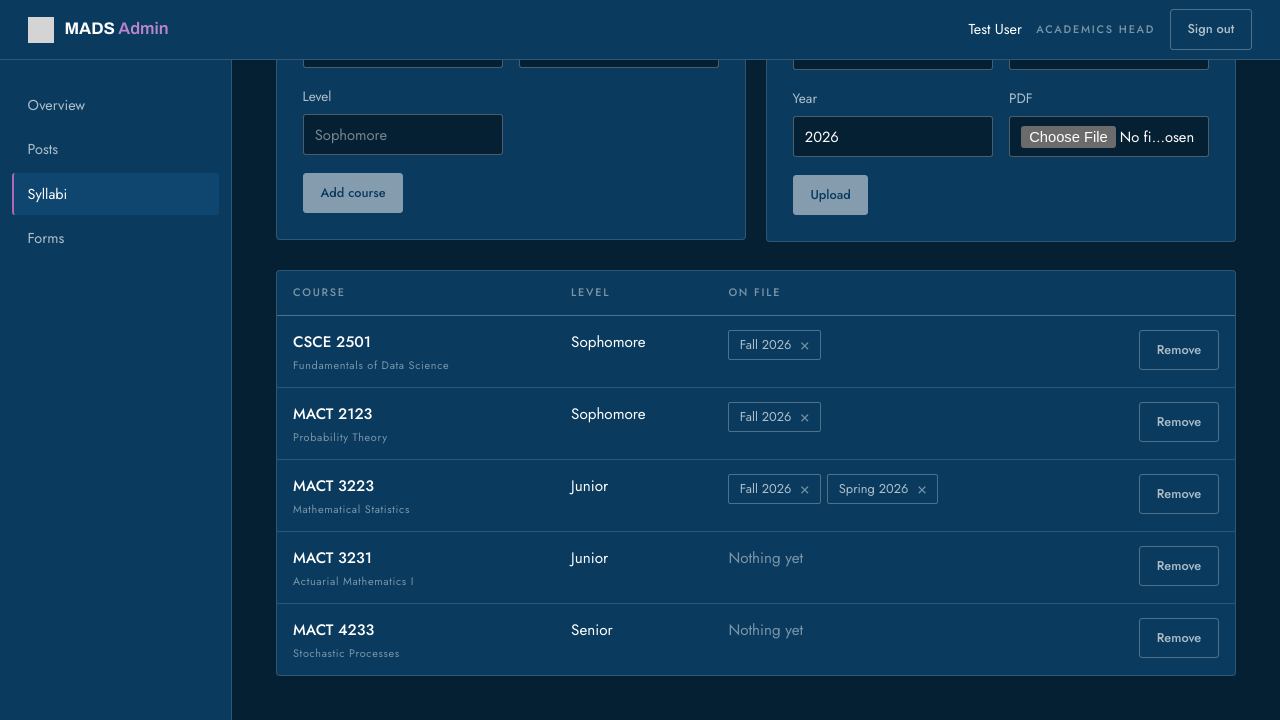
Scenario: Syllabi › keeps the course when the confirmation is declined
(page scrolled)
Click the button with aria-label "remove MACT 3231 from the catalogue".
click(1179, 566)  # box [1139,546,1219,586]
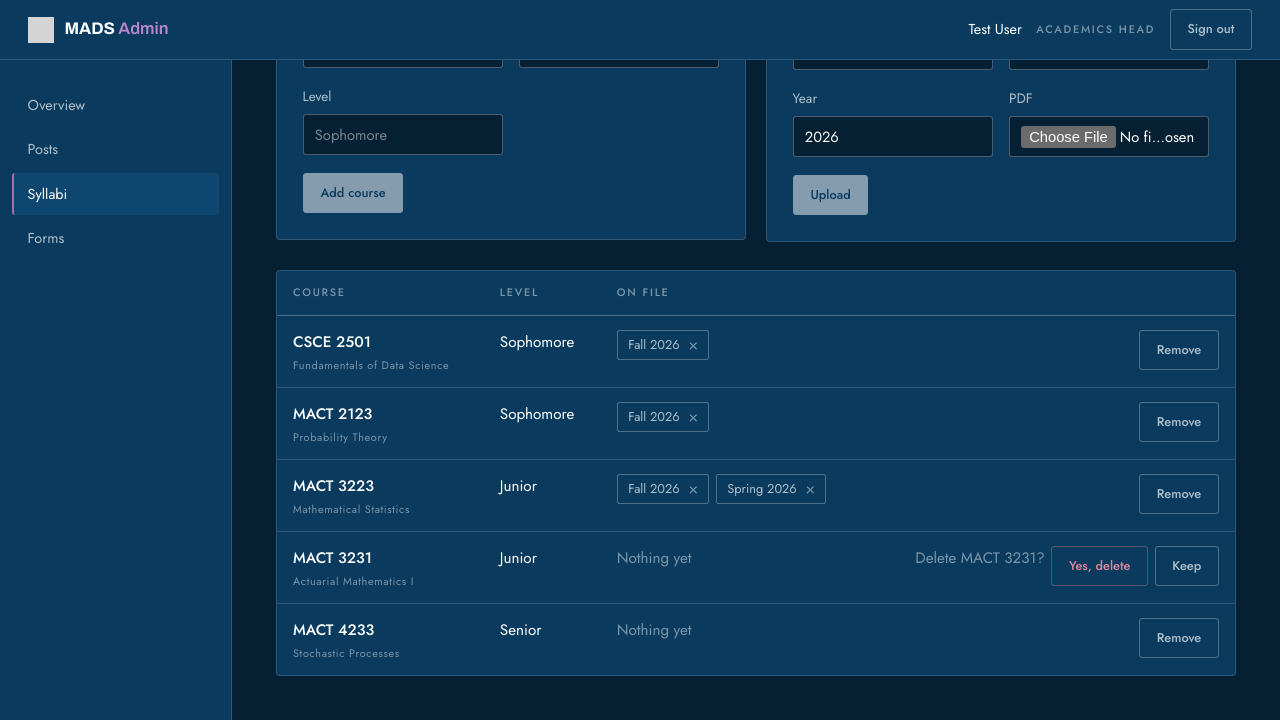
Click the button "Keep".
click(1187, 566)  # box [1154,546,1219,586]
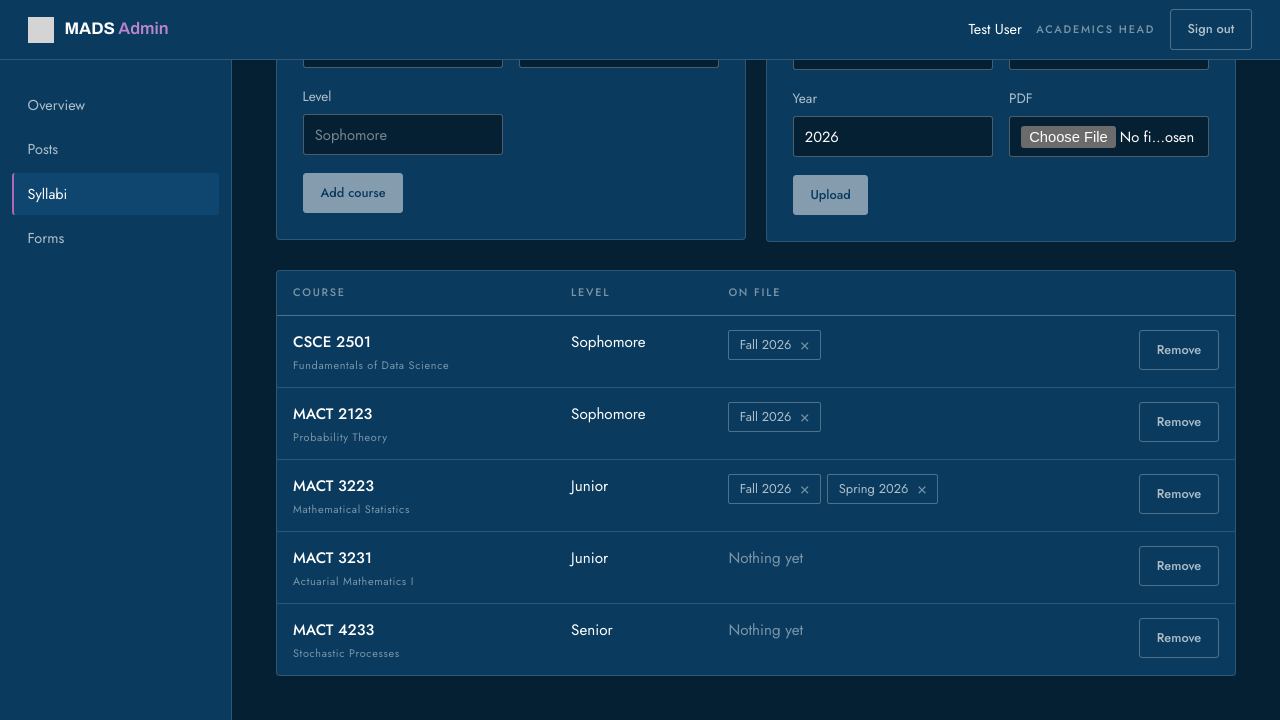
expect the button "Yes, delete" is gone: met
